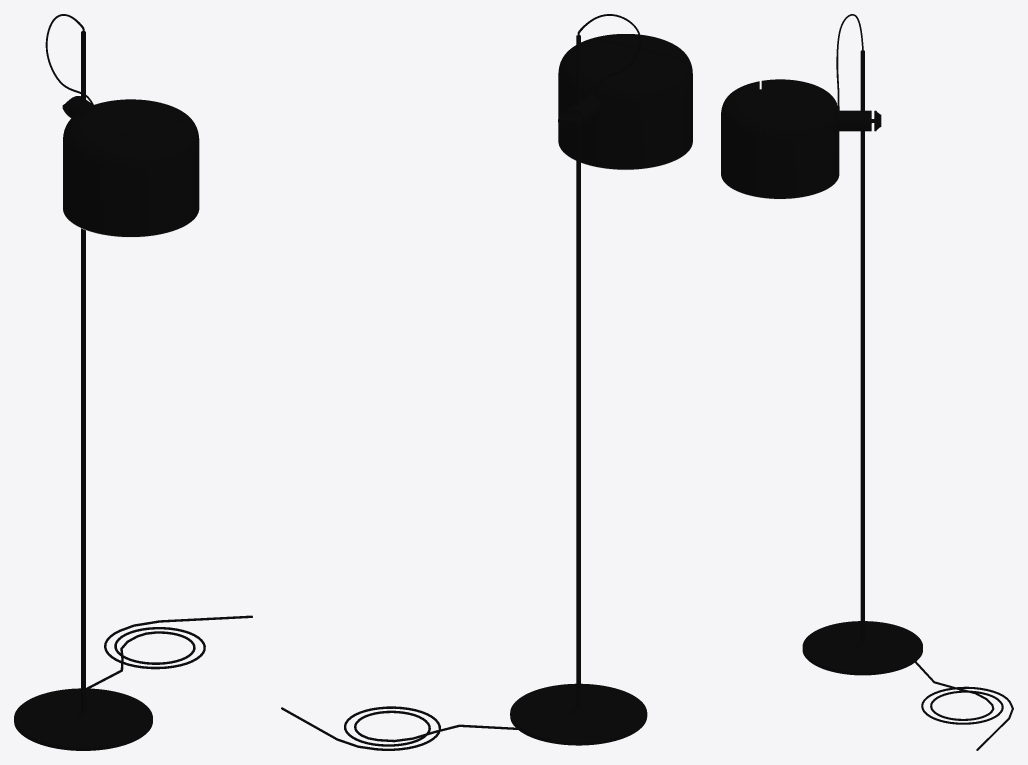
The model's file is floor-lamp.glb.
3 views of the same model, side by side, from view 1: azimuth 30°, elevation 25°; view 2: azimuth 150°, elevation 25°; view 3: azimuth 270°, elevation 25° (orthographic). The views are drawn at different scales.
Parts seen in each view (by area): view 1: Object007_22 - Default_0; view 2: Object007_22 - Default_0; view 3: Object007_22 - Default_0.
Part boxes in pixels (bbox=[...]): Object007_22 - Default_0: bbox=[14, 31, 252, 750]; Object007_22 - Default_0: bbox=[281, 34, 692, 750]; Object007_22 - Default_0: bbox=[721, 50, 1013, 750].
Size of the model in its own units: 0.5624 by 1.31 by 0.5564.
2 materials, 2 textured.
